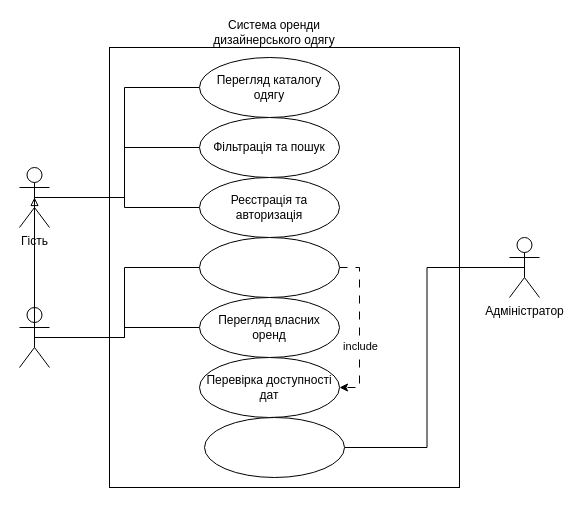
Image size: 581x505. Some labels were removed from this diagram. Each missing label, with the centre of its shape:
"Керування товарами (додавання/видалення)" belongs at (274,447).
"Клієнт" belongs at (34,337).
"Оформлення оренди" belongs at (269,267).
